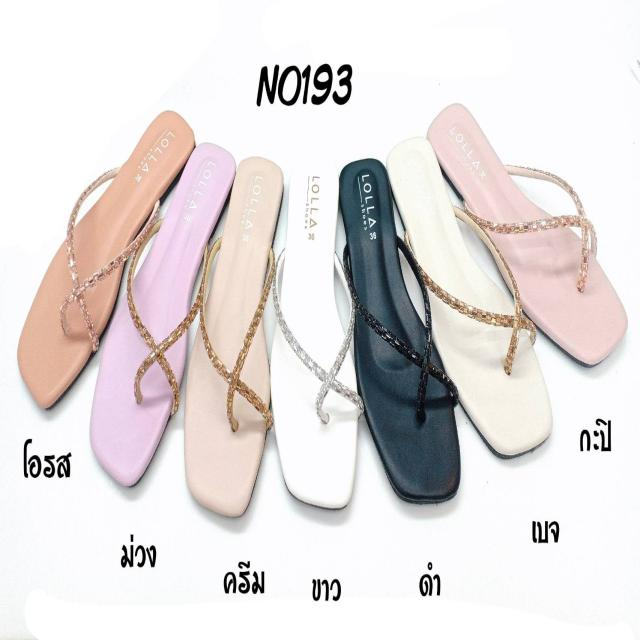bej: (388, 138, 551, 453)
black: (342, 162, 462, 501)
cream: (186, 155, 280, 506)
kapi: (431, 100, 621, 355)
orot: (19, 108, 191, 405)
purple: (94, 140, 228, 474)
white: (275, 158, 357, 512)
